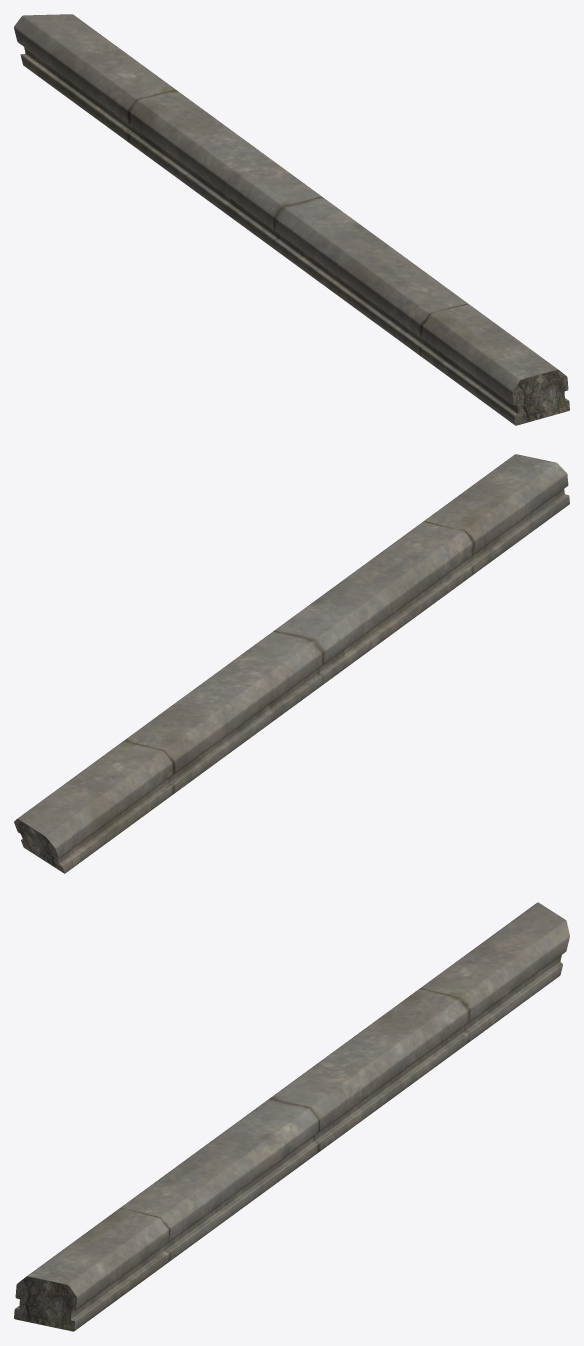
The model's file is RailingDamage07.fbx.
The picture shows the model from 3 angles, top to bottom: view 1: azimuth 30°, elevation 25°; view 2: azimuth 150°, elevation 25°; view 3: azimuth 330°, elevation 25°; orthographic projection. The views are drawn at different scales.
Visible parts, largest first — view 1: RailingDamage07; view 2: RailingDamage07; view 3: RailingDamage07.
Boxes of the visible parts, x1,y1,x2,y2 form: RailingDamage07: [14, 14, 569, 425]; RailingDamage07: [14, 454, 569, 873]; RailingDamage07: [14, 902, 569, 1331].
Size of the model in its own units: 14.07 by 9.75 by 215.
